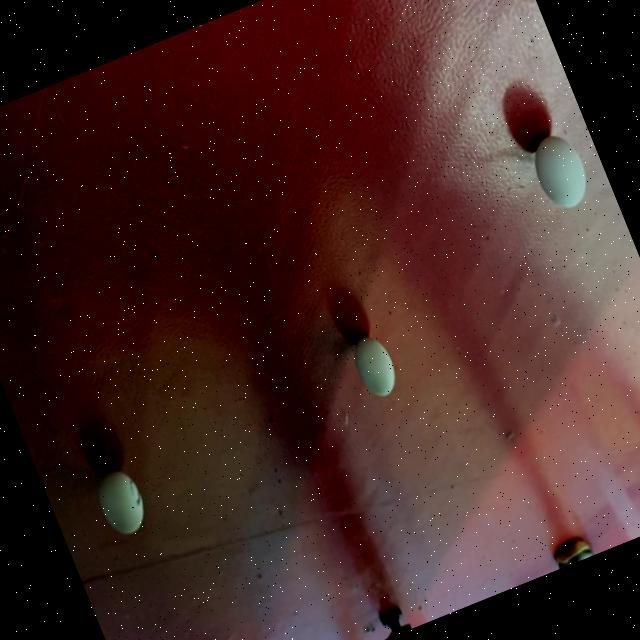ping-pong-ball: (520, 122, 596, 218), (86, 459, 154, 544), (342, 326, 403, 404)
